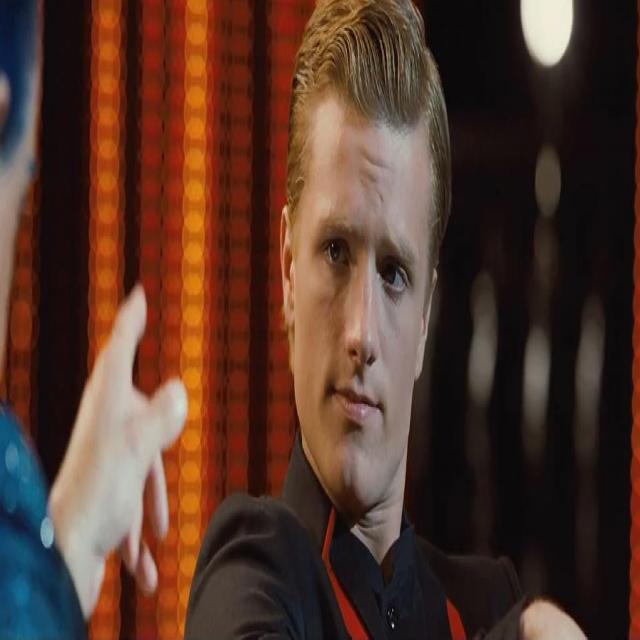nomask: (298, 77, 428, 504)
